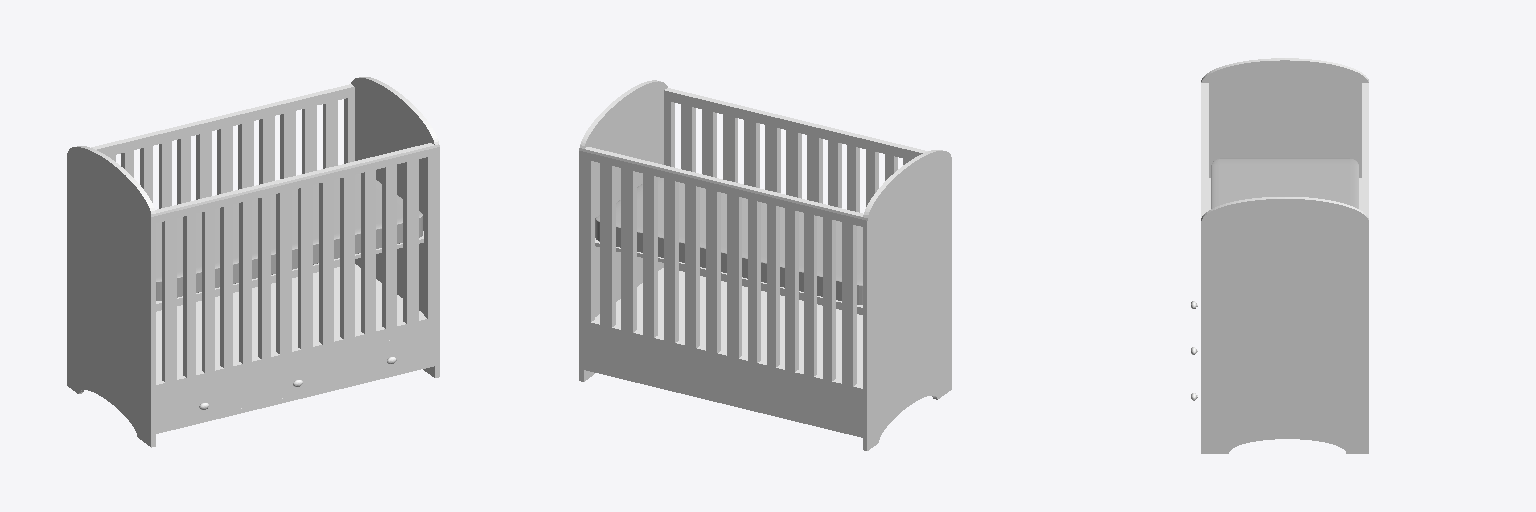
Rendered from tinker.obj.
3 renders of one model, left to right at view 1: azimuth 30°, elevation 25°; view 2: azimuth 150°, elevation 25°; view 3: azimuth 270°, elevation 25°, orthographic.
Visible parts, largest first — view 1: obj_0; view 2: obj_0; view 3: obj_0.
Part boxes in pixels (bbox=[...]): obj_0: bbox=[67, 77, 439, 447]; obj_0: bbox=[579, 80, 951, 450]; obj_0: bbox=[1191, 58, 1368, 453].
Bounding box in the file's own units: 123 × 104 × 66.